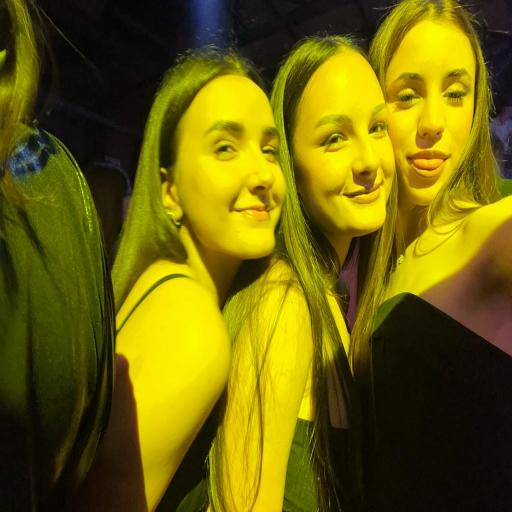marija: (300, 52, 395, 234)
masa: (388, 14, 495, 210)
